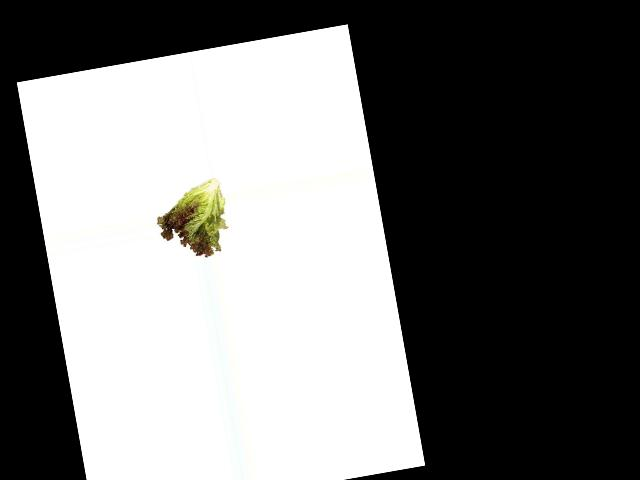lettuce: (152, 178, 233, 264)
